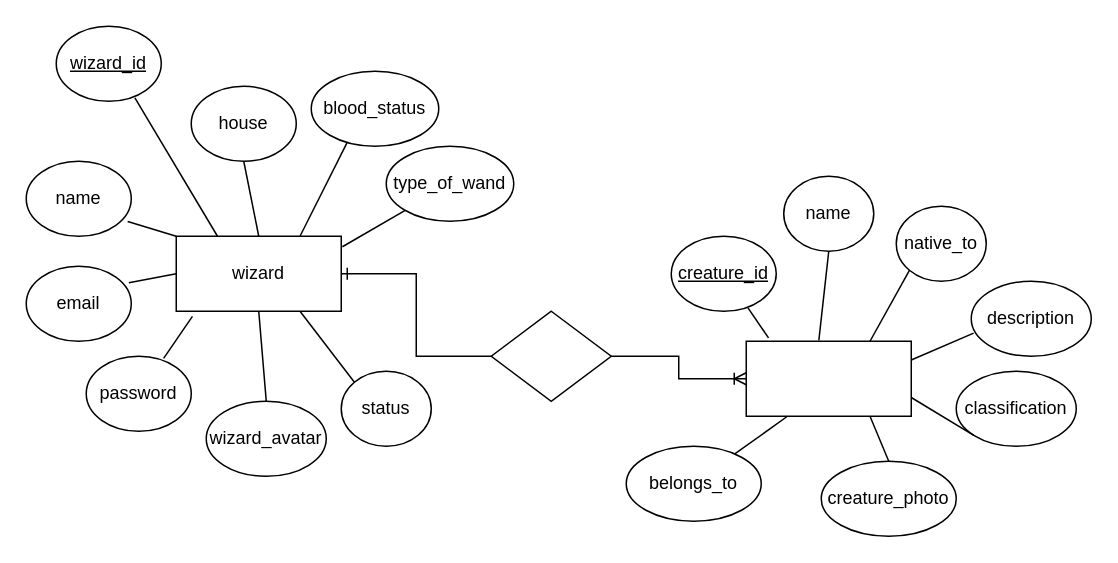
Some shapes in this 1118 by 563 pixel diagram are drawn without their labels. Each missing label, with the centre of its shape:
"creature" belongs at (x=828, y=378).
"has" belongs at (x=550, y=355).
